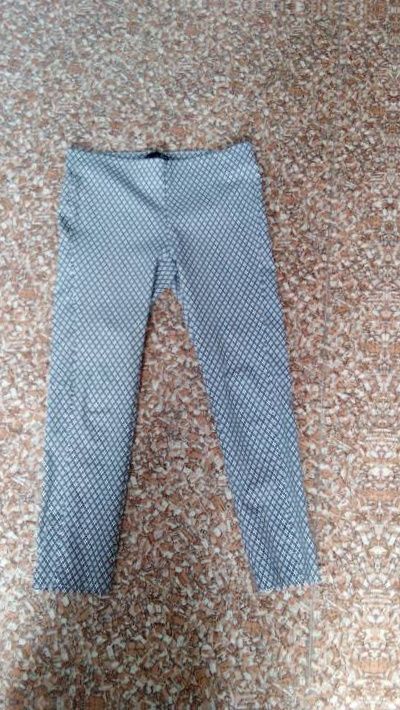Pants: (0, 95, 344, 615)
